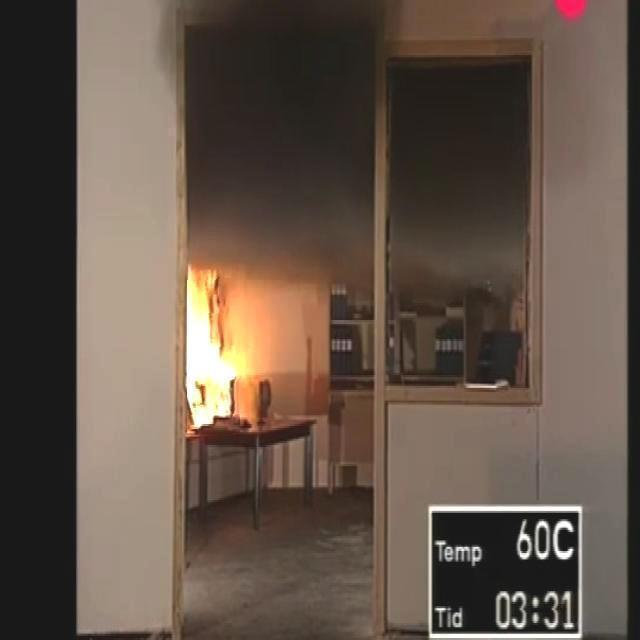fire: (185, 0, 376, 260), (393, 68, 524, 278)
smoke: (187, 263, 245, 435)
